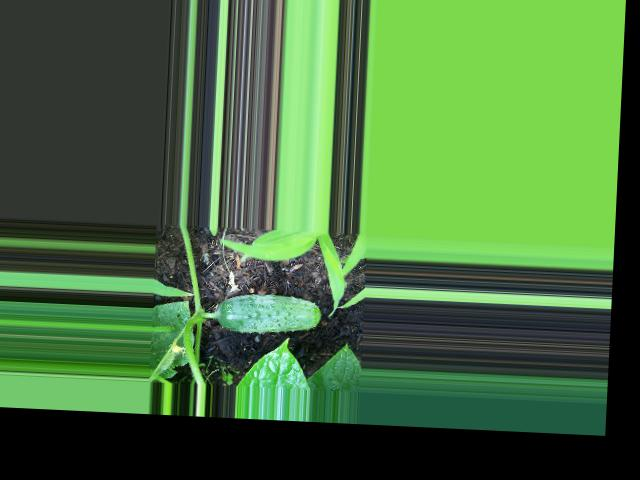cucumber: (215, 291, 323, 335)
